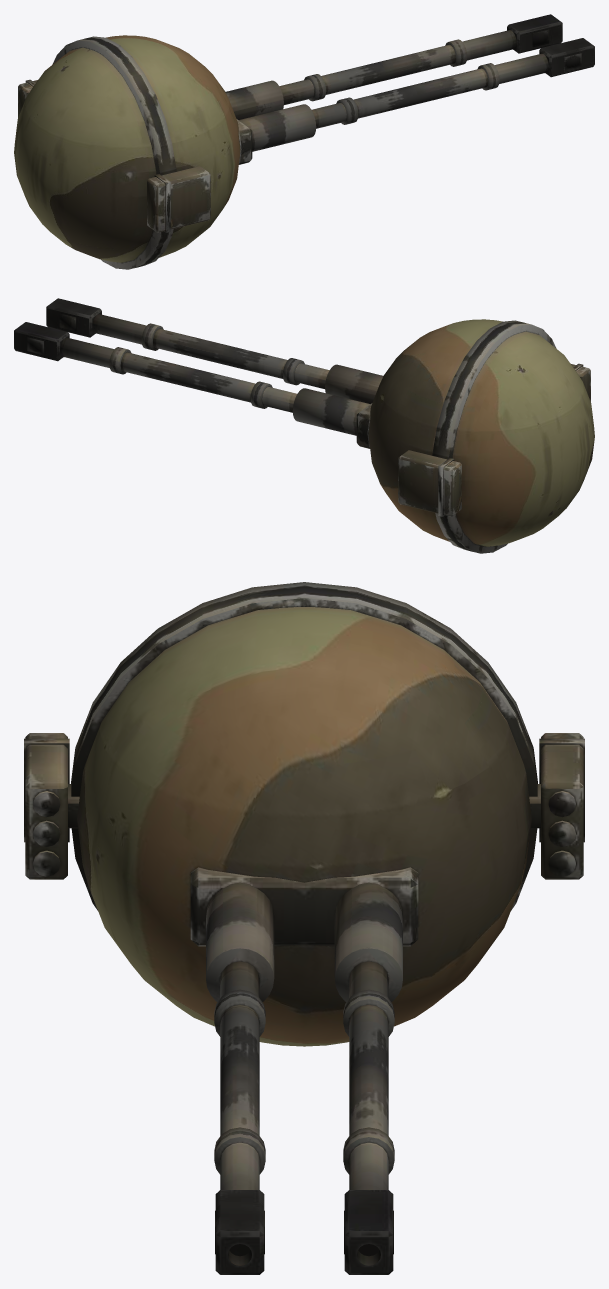
The model's file is turret_kit_tail_ball_t2_steppe.glb.
3 renders of one model, top to bottom at view 1: azimuth 30°, elevation 25°; view 2: azimuth 150°, elevation 25°; view 3: azimuth 270°, elevation 25°, orthographic. The views are drawn at different scales.
Parts seen in each view (by area): view 1: turret_tail_ball_t2, pods; view 2: turret_tail_ball_t2, pods; view 3: turret_tail_ball_t2, pods.
Boxes of the visible parts, bbox=[...] form: turret_tail_ball_t2: bbox=[14, 14, 594, 269]; pods: bbox=[18, 79, 210, 232]; turret_tail_ball_t2: bbox=[14, 298, 594, 553]; pods: bbox=[398, 363, 590, 516]; turret_tail_ball_t2: bbox=[71, 582, 537, 1274]; pods: bbox=[24, 733, 584, 879].
Size of the model in its own units: 1.66 by 0.62 by 0.7402.
Materials: 2 (2 with a texture image).
